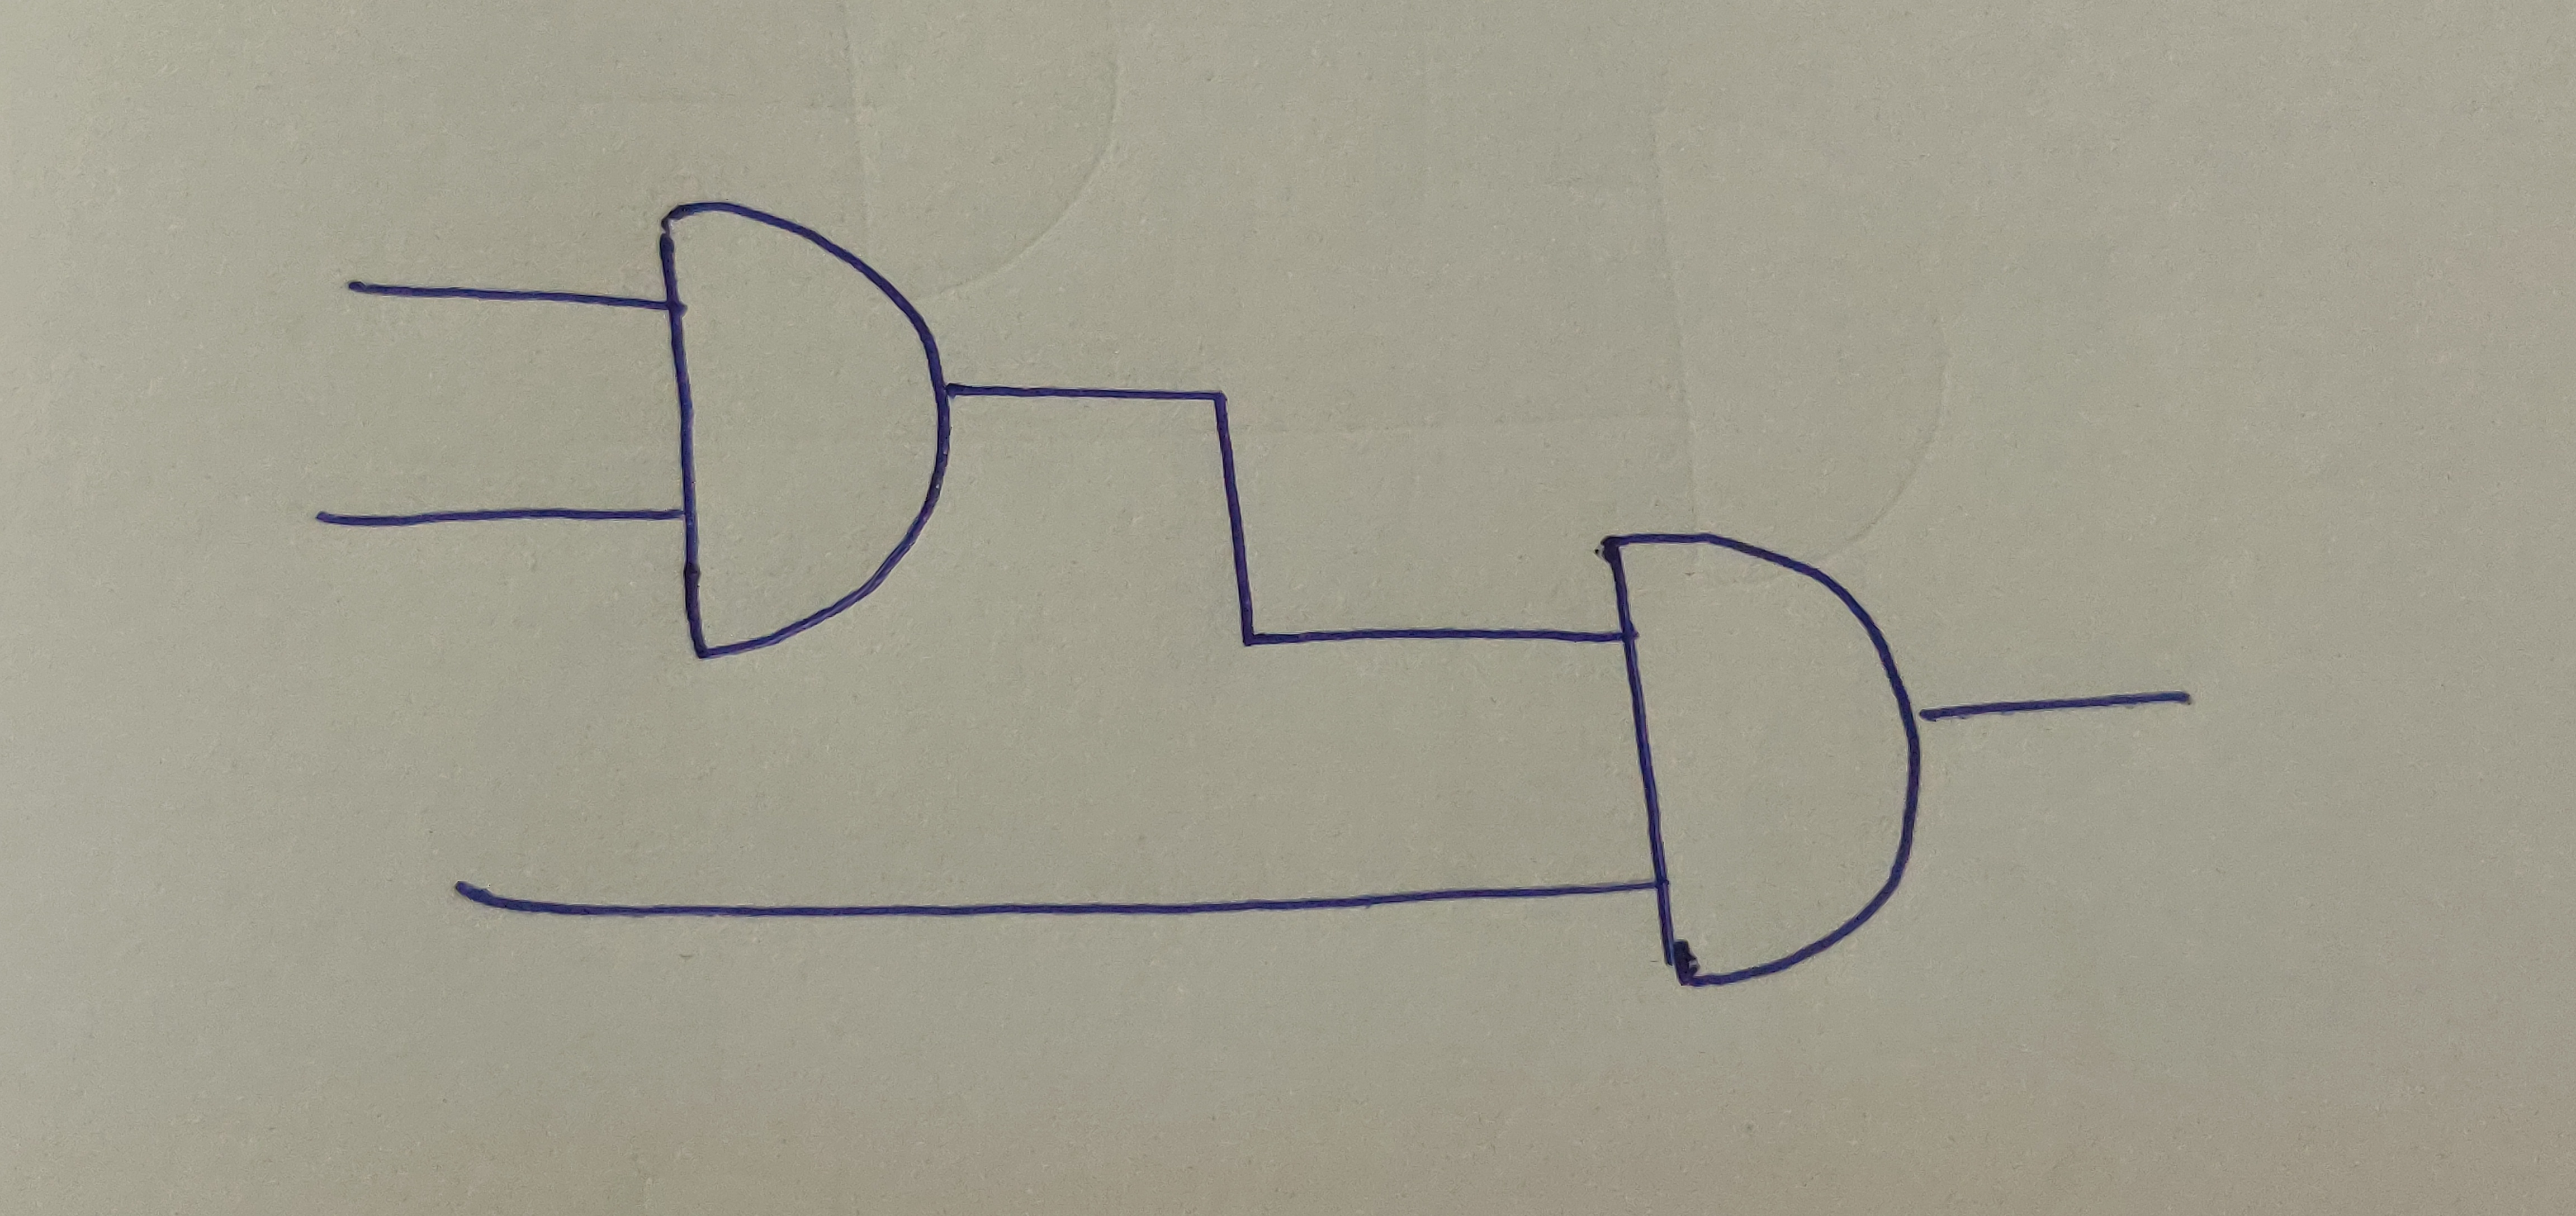and: (1610, 526, 1924, 991), (662, 197, 950, 656)
